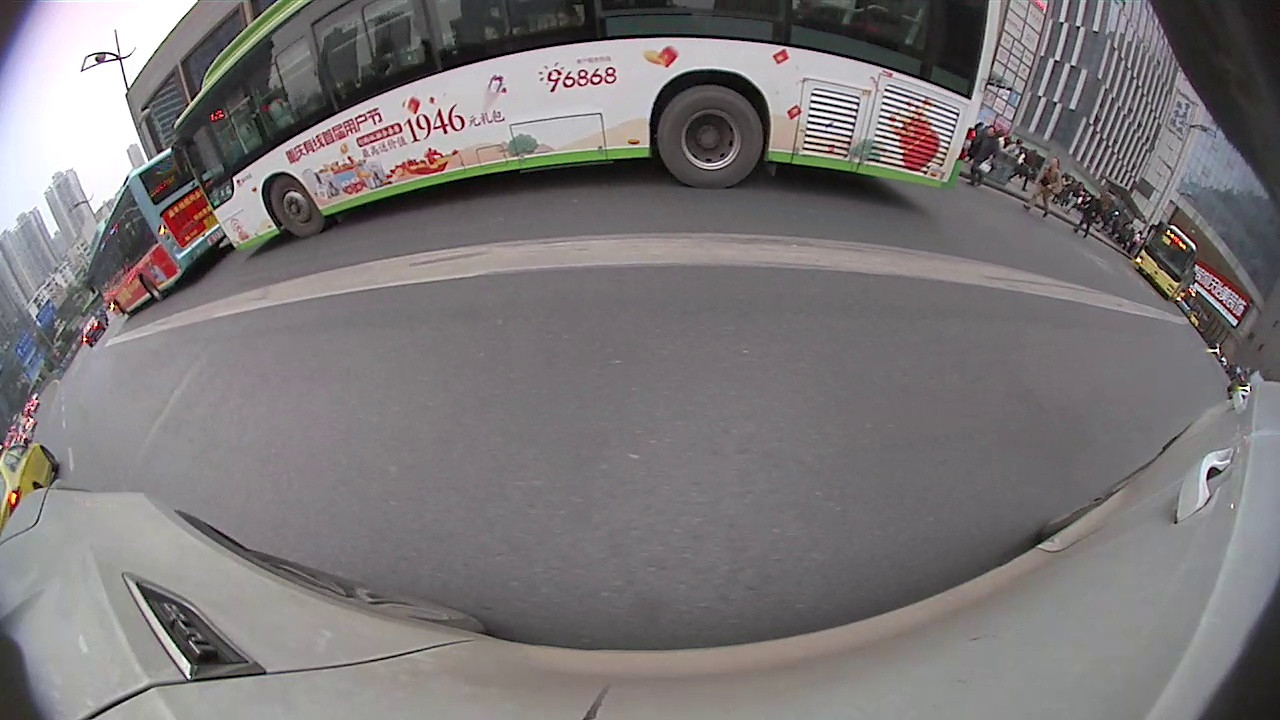bus: (174, 0, 1006, 259), (82, 148, 225, 321), (1134, 224, 1198, 297)
car: (1, 440, 60, 536), (80, 315, 107, 346)
front: (257, 178, 323, 236)
person: (979, 123, 997, 190), (1042, 154, 1059, 216), (1088, 182, 1103, 240)
rear: (658, 86, 764, 190)
